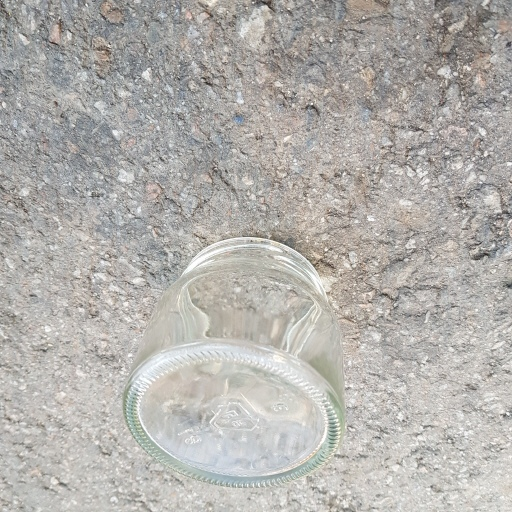Glass_5: (122, 228, 348, 487)
